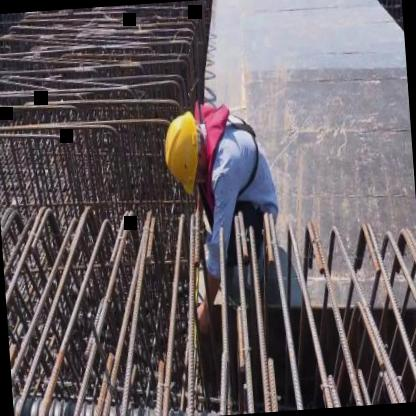helmet: (161, 112, 208, 190)
